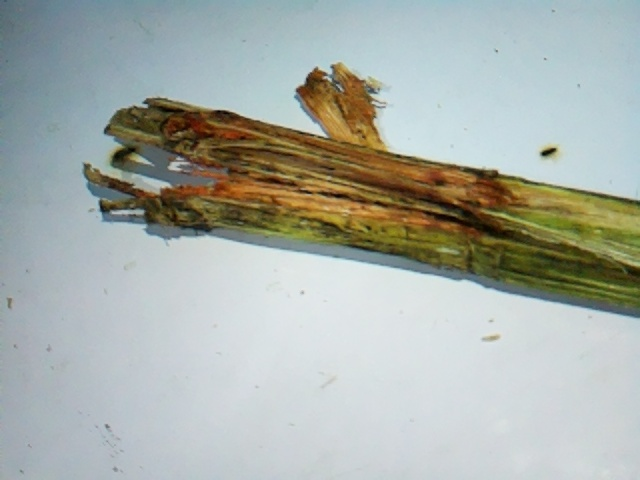Red-Rot: (76, 57, 512, 287)
